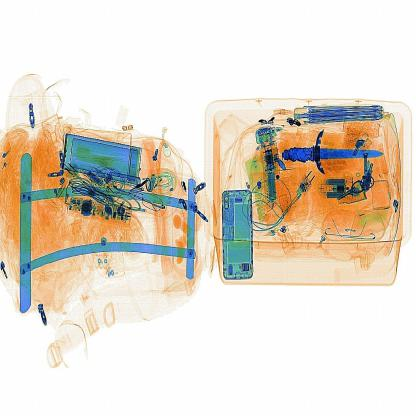wrench: (273, 121, 390, 177)
